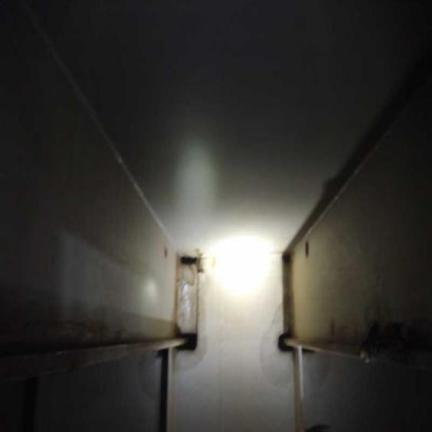besi_tidak_karat: (30, 0, 431, 251), (0, 2, 176, 354), (180, 236, 294, 431)
